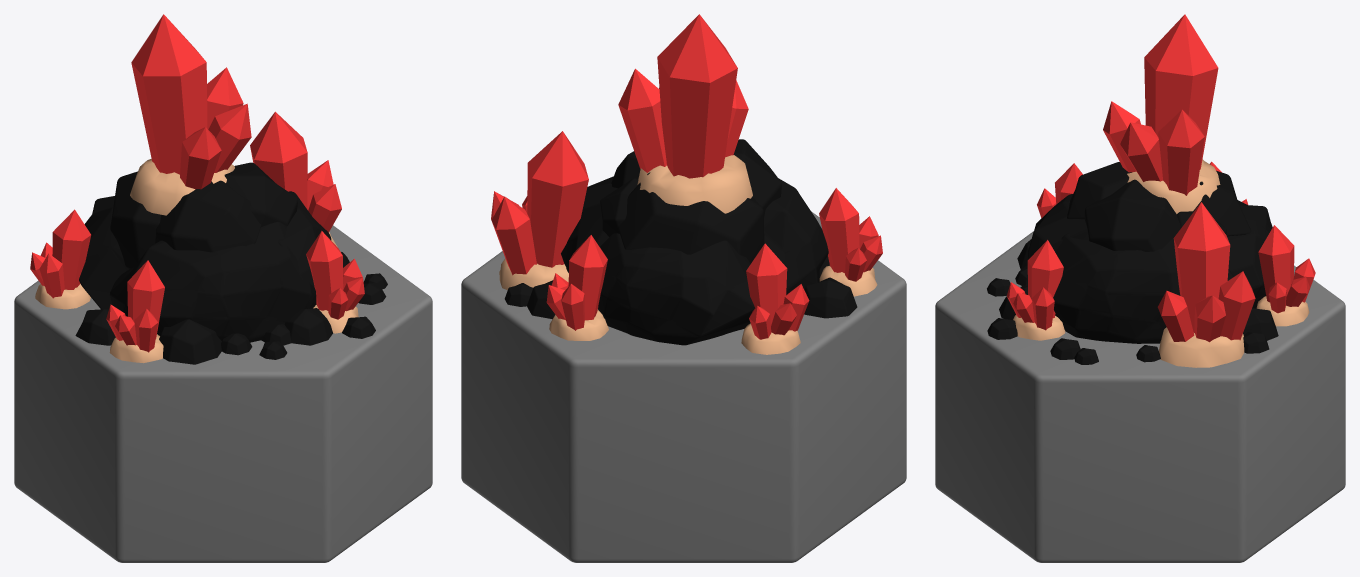
Rendered from Environment_Jewel.fbx.
3 views of the same model, side by side, from view 1: azimuth 30°, elevation 25°; view 2: azimuth 150°, elevation 25°; view 3: azimuth 270°, elevation 25° (orthographic). The views are drawn at different scales.
Visible parts, largest first — view 1: Object003; view 2: Object003; view 3: Object003.
Boxes of the visible parts, x1,y1,x2,y2 form: Object003: (14,14,432,562); Object003: (461,14,906,562); Object003: (935,14,1345,562).
Size of the model in its own units: 173 by 244 by 198.
